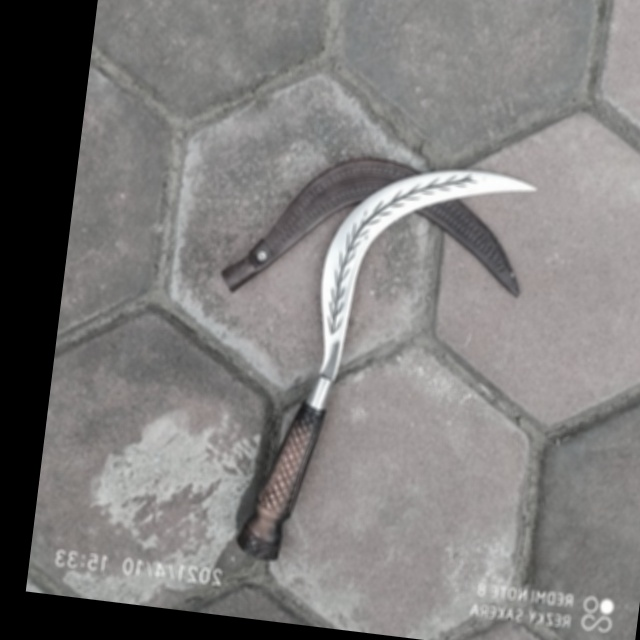Sharp-Object: (225, 128, 530, 581)
